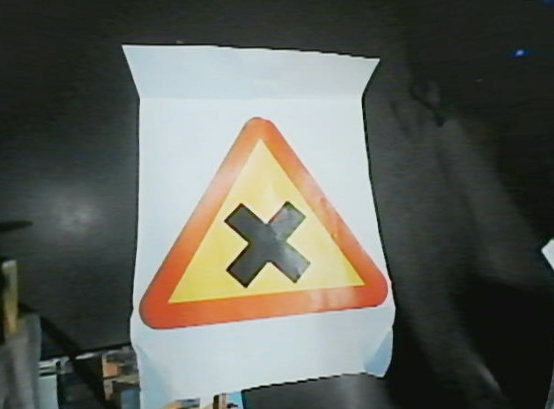junction: (132, 105, 396, 335)
